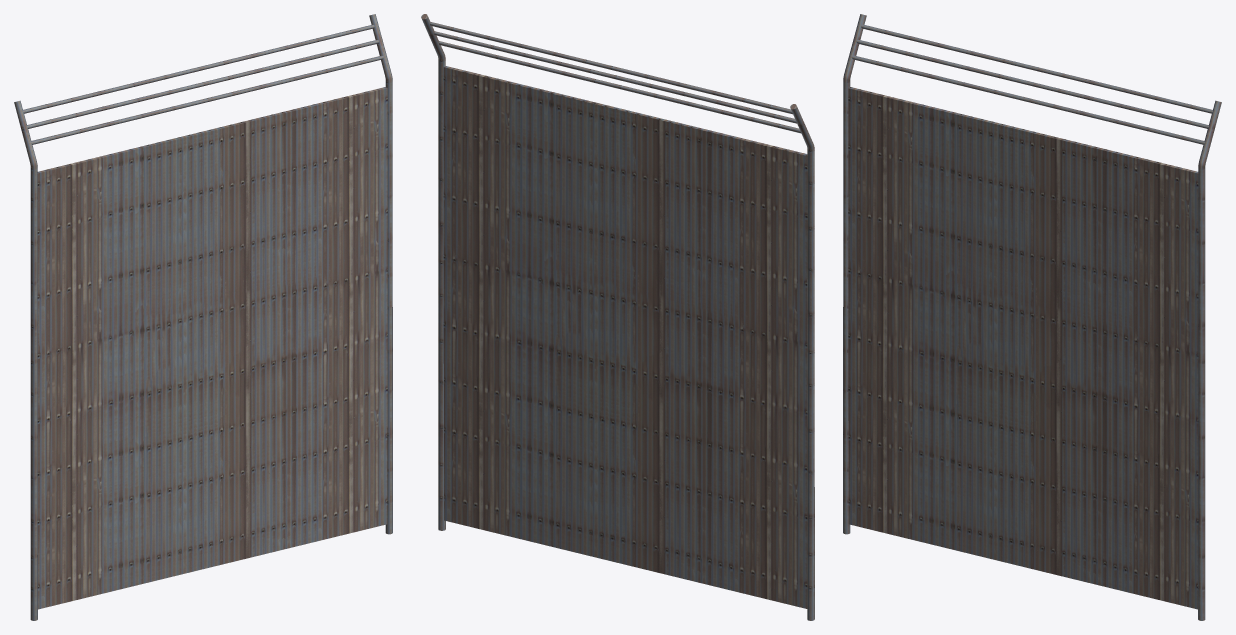
File: SM_Wall_02.FBX
3 renders of one model, left to right at view 1: azimuth 30°, elevation 25°; view 2: azimuth 150°, elevation 25°; view 3: azimuth 330°, elevation 25°, orthographic. The views are drawn at different scales.
Parts seen in each view (by area): view 1: Box151; view 2: Box151; view 3: Box151.
Part boxes in pixels (x1=…): Box151: x1=14, y1=14, x2=392, y2=620; Box151: x1=421, y1=14, x2=814, y2=620; Box151: x1=843, y1=14, x2=1221, y2=620.
Bounding box in the file's own units: 4.78 × 6.41 × 0.4625.
